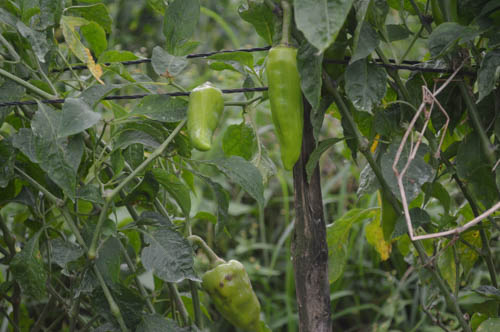ChiliPepper: (264, 46, 305, 169), (202, 263, 260, 327), (184, 87, 223, 151)
